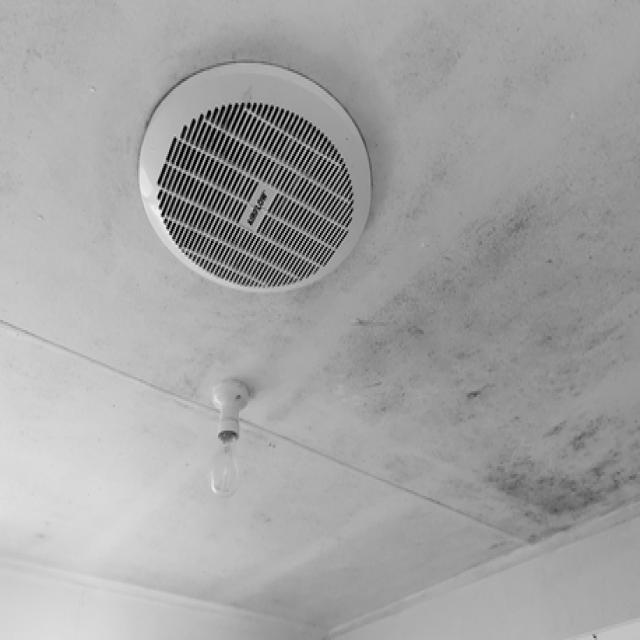stain marks: (376, 187, 640, 561)
